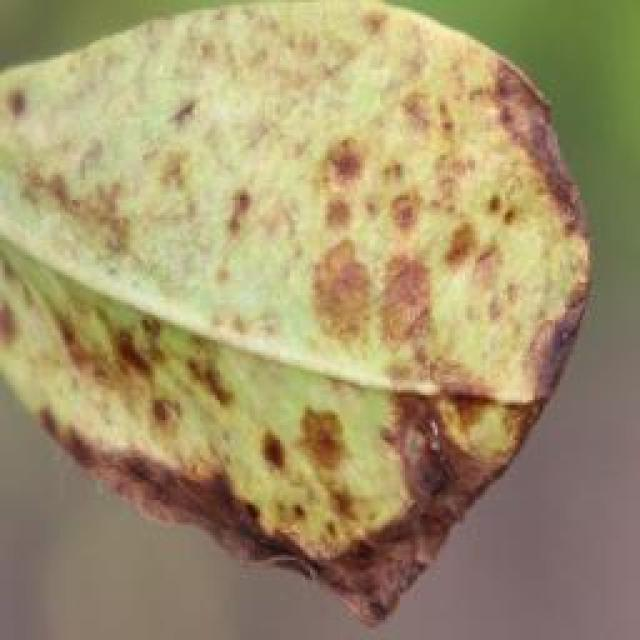Whitefly: (0, 7, 576, 611)
